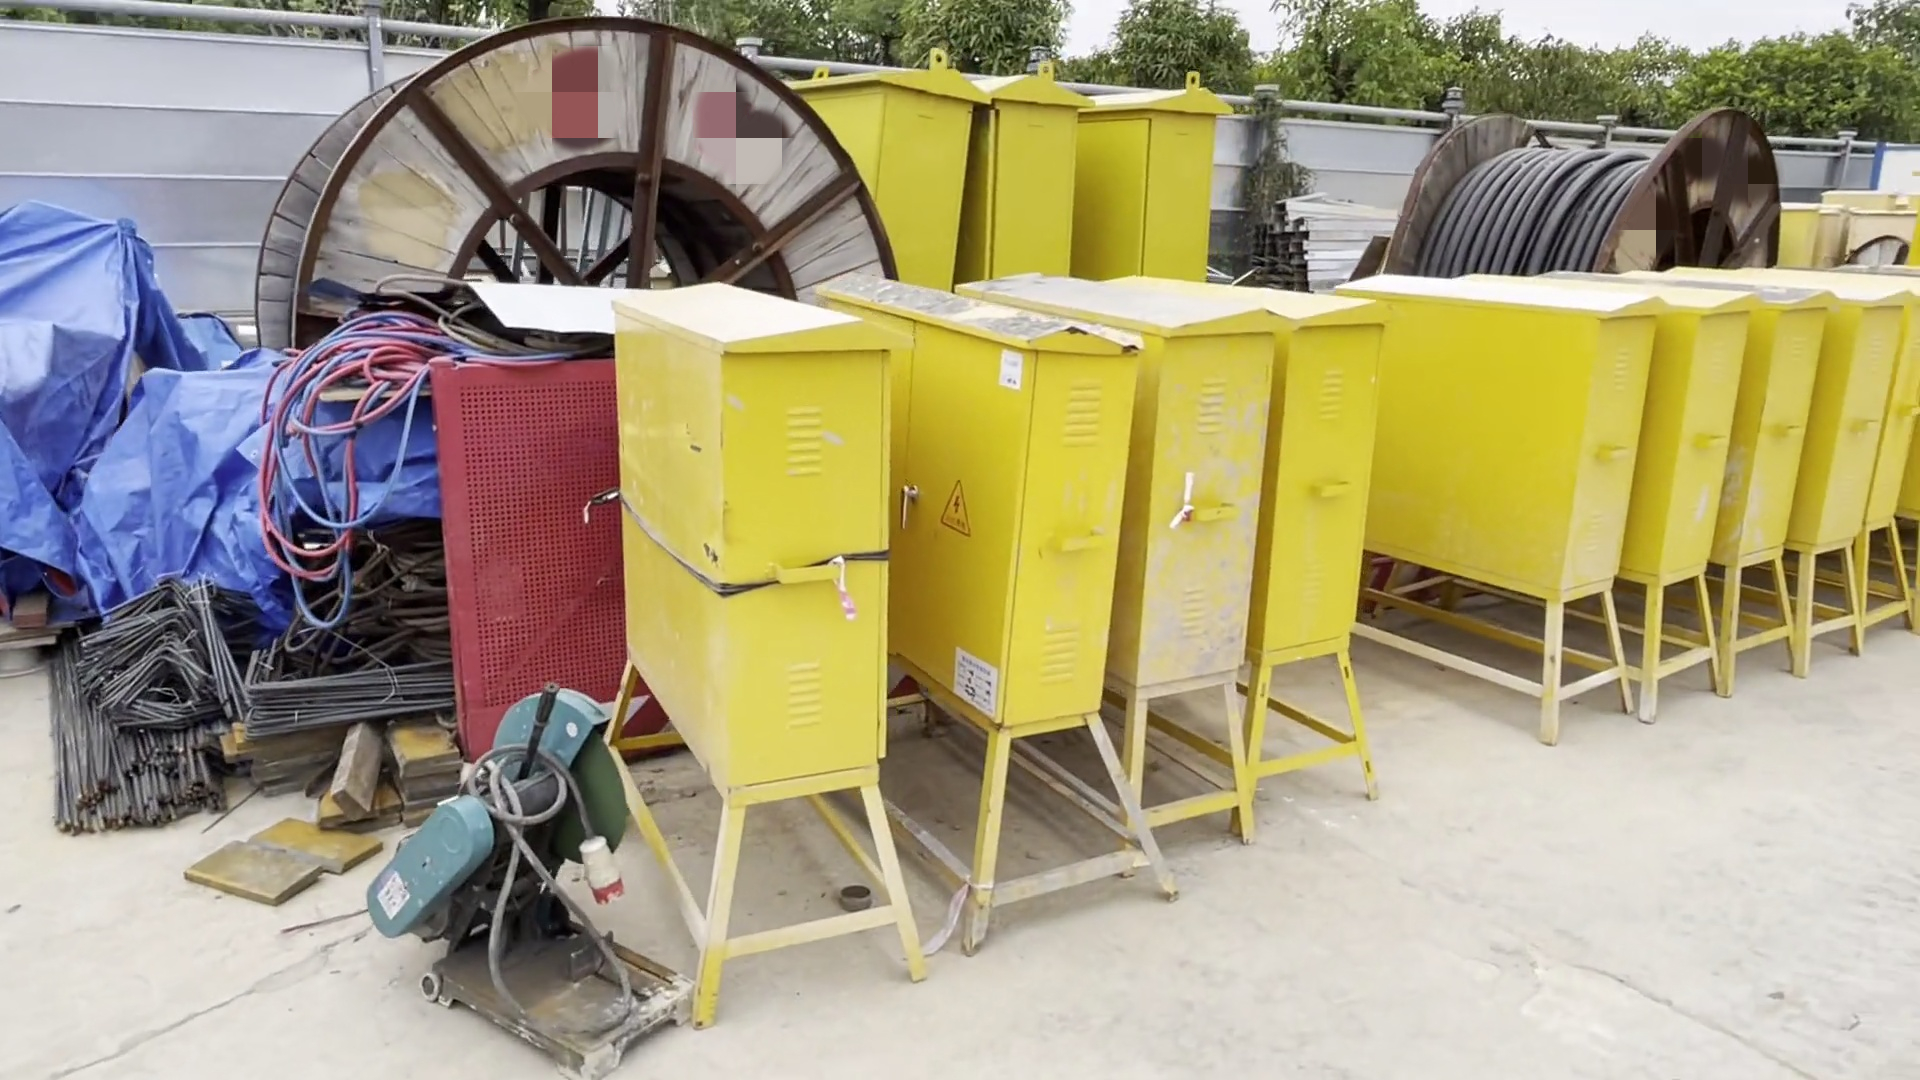ebox: (563, 272, 901, 1007), (822, 272, 1172, 926), (967, 249, 1276, 847), (1350, 276, 1660, 715), (1233, 282, 1394, 835), (1712, 276, 1836, 698), (1642, 286, 1739, 702), (825, 24, 986, 270), (1797, 282, 1892, 669), (1101, 57, 1247, 258), (978, 45, 1095, 274)
